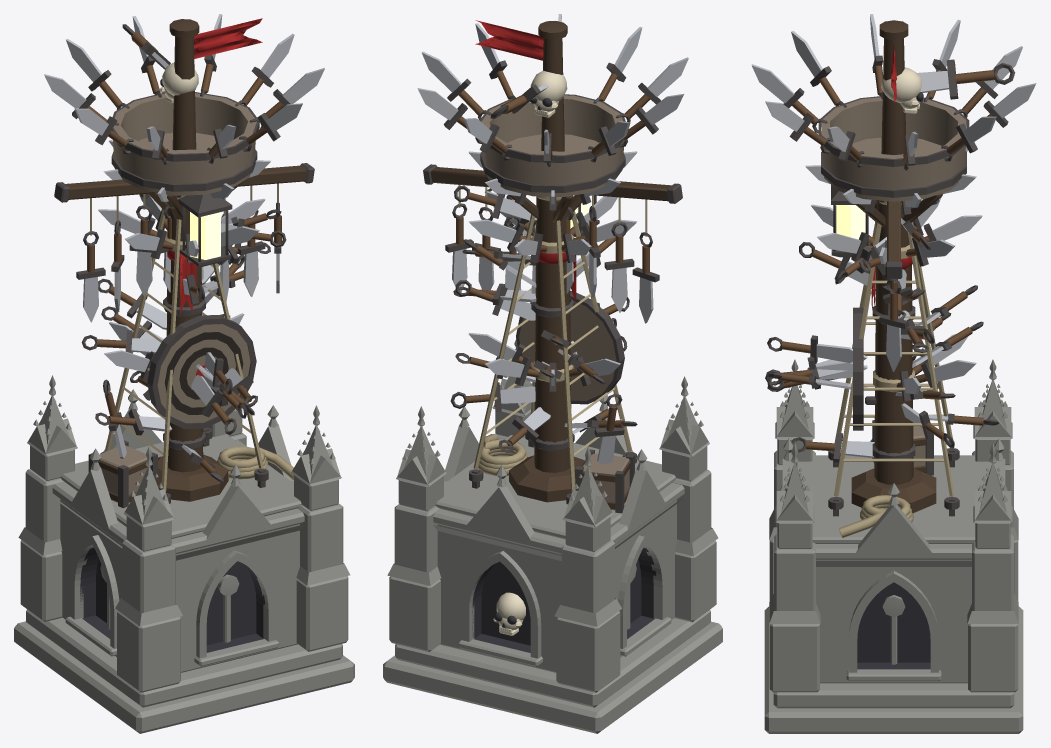
Rendered from tower_knife_3.glb.
3 renders of one model, left to right at view 1: azimuth 30°, elevation 25°; view 2: azimuth 150°, elevation 25°; view 3: azimuth 270°, elevation 25°, orthographic. The views are drawn at different scales.
Parts seen in each view (by area): view 1: tower, turret; view 2: tower, turret; view 3: tower, turret.
Boxes of the visible parts, x1,y1,x2,y2 form: tower: (14,140,354,733); turret: (44,14,324,322); tower: (383,151,722,733); turret: (417,14,688,323); tower: (764,146,1023,733); turret: (751,14,1036,371).
Size of the model in its own units: 1.97 by 4.76 by 1.87.
